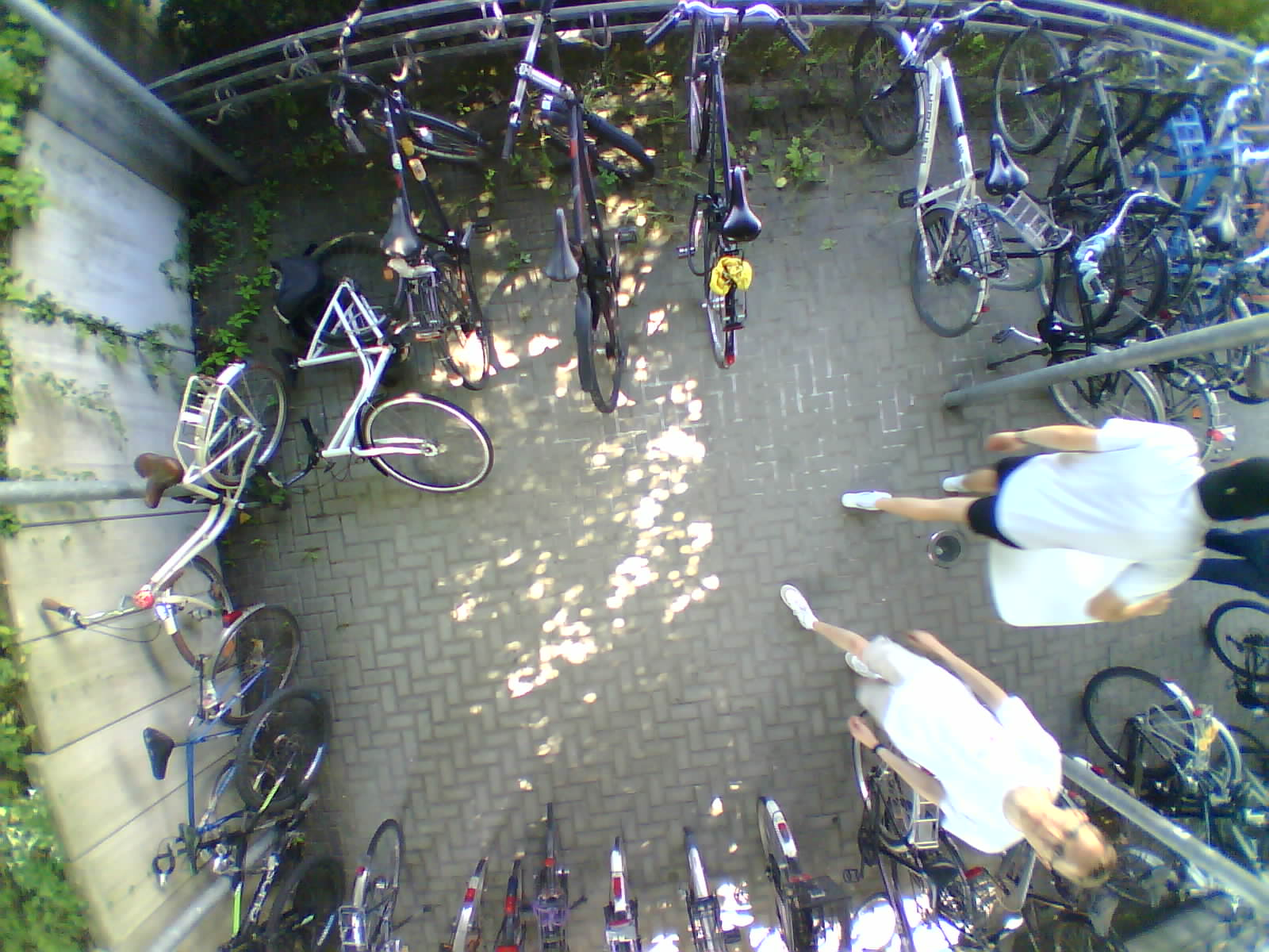bicylce: (849, 13, 1029, 337), (283, 227, 495, 487), (137, 358, 289, 667), (958, 207, 1158, 438), (525, 41, 647, 416), (360, 60, 489, 397), (133, 607, 289, 877), (667, 4, 776, 371), (1001, 32, 1128, 330)
saddle: (718, 163, 767, 249), (126, 452, 184, 508), (982, 131, 1037, 189), (375, 197, 427, 257), (544, 210, 585, 285), (133, 725, 180, 783), (1132, 161, 1179, 212), (1197, 195, 1238, 251)
